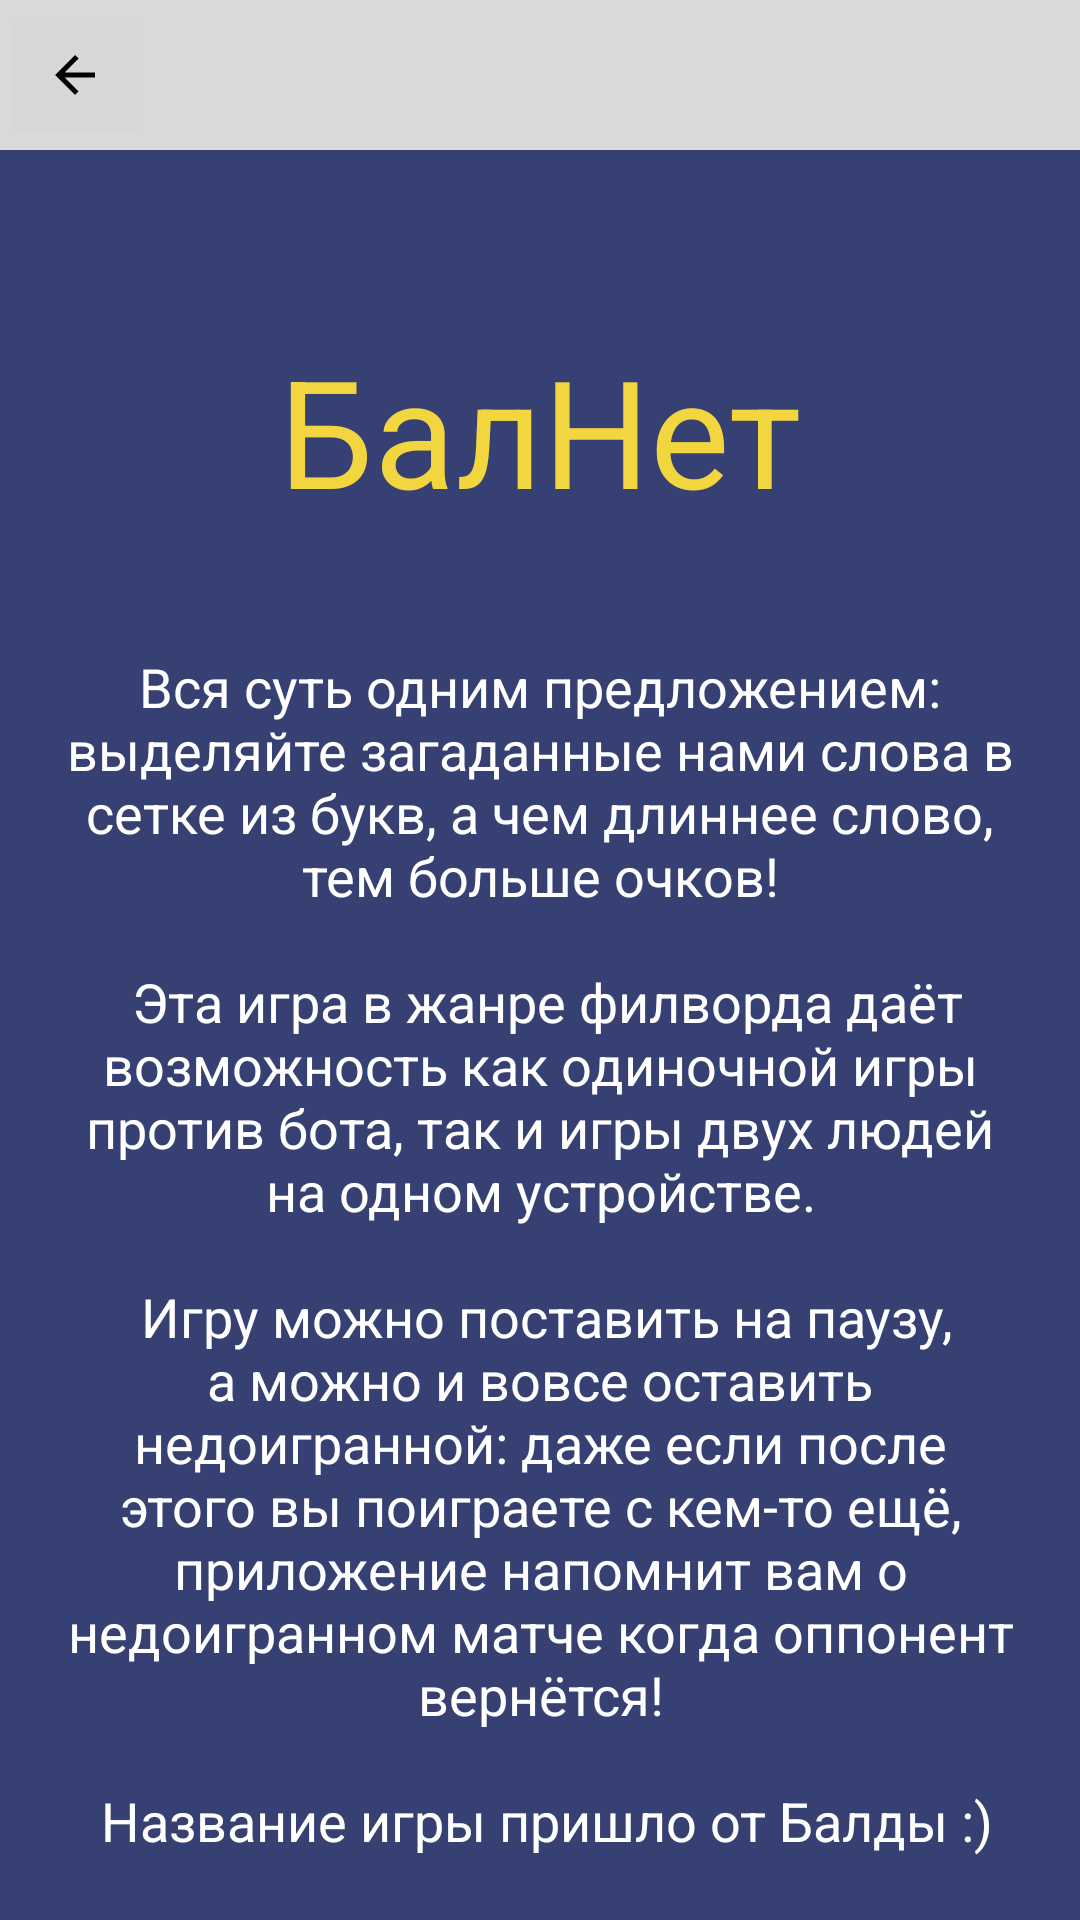

Icons on this 1080x1920 Android screen, each with its box as (x1, y1, x2, y2):
arrow back: (55, 55, 95, 95)
